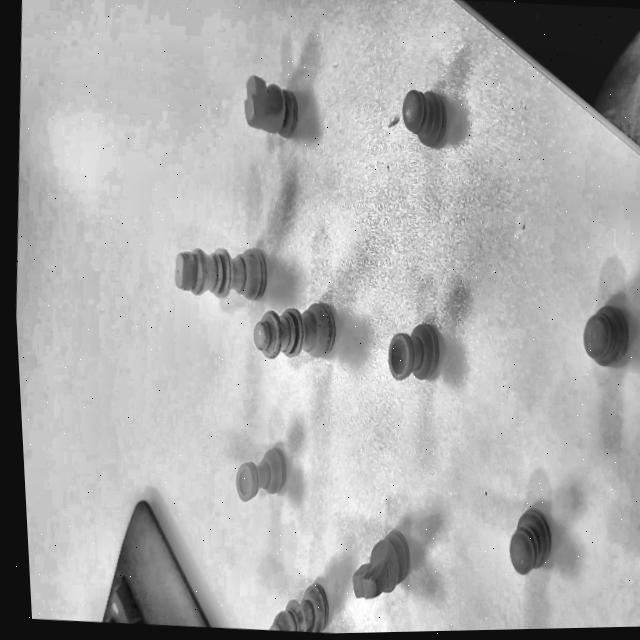white-king: (165, 223, 272, 307)
white-knight: (233, 59, 312, 155), (342, 528, 423, 603)
white-pawn: (494, 493, 578, 601), (381, 78, 474, 162), (574, 294, 640, 391)
white-queen: (251, 302, 356, 368)
white-rook: (371, 302, 467, 431), (227, 445, 302, 520)
